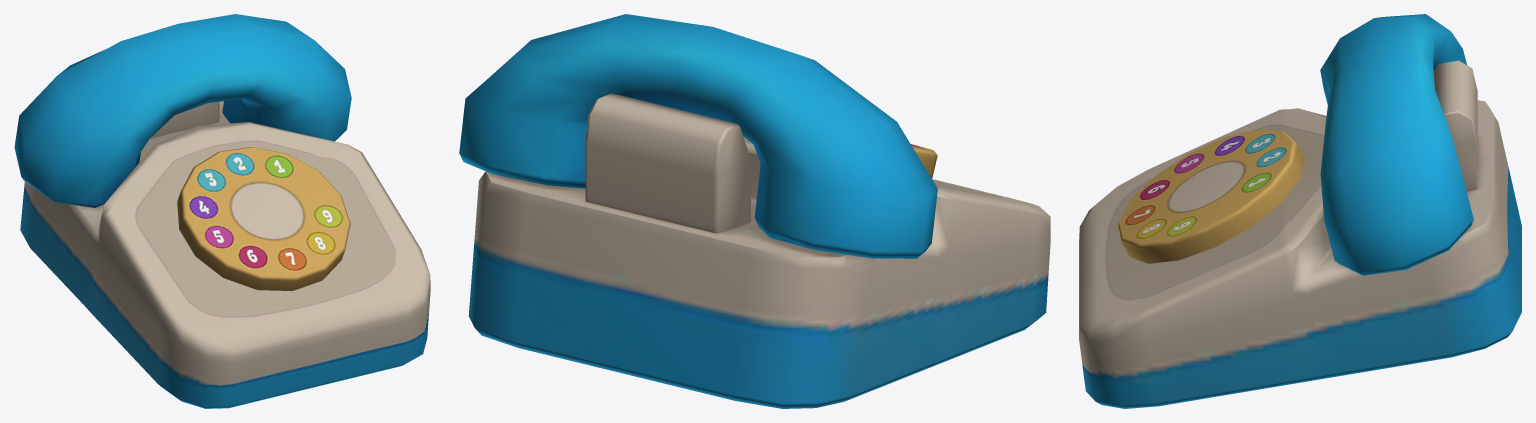
File: 0-telephone_blue.fbx
The picture shows the model from 3 angles, left to right: view 1: azimuth 30°, elevation 25°; view 2: azimuth 150°, elevation 25°; view 3: azimuth 270°, elevation 25°; orthographic projection. The views are drawn at different scales.
Visible parts, largest first — view 1: 0-telephone_blue; view 2: 0-telephone_blue; view 3: 0-telephone_blue.
Boxes of the visible parts, x1,y1,x2,y2 form: 0-telephone_blue: (14,14,430,408); 0-telephone_blue: (459,14,1050,408); 0-telephone_blue: (1079,14,1521,408).
Size of the model in its own units: 87.4 by 68.66 by 91.02.
